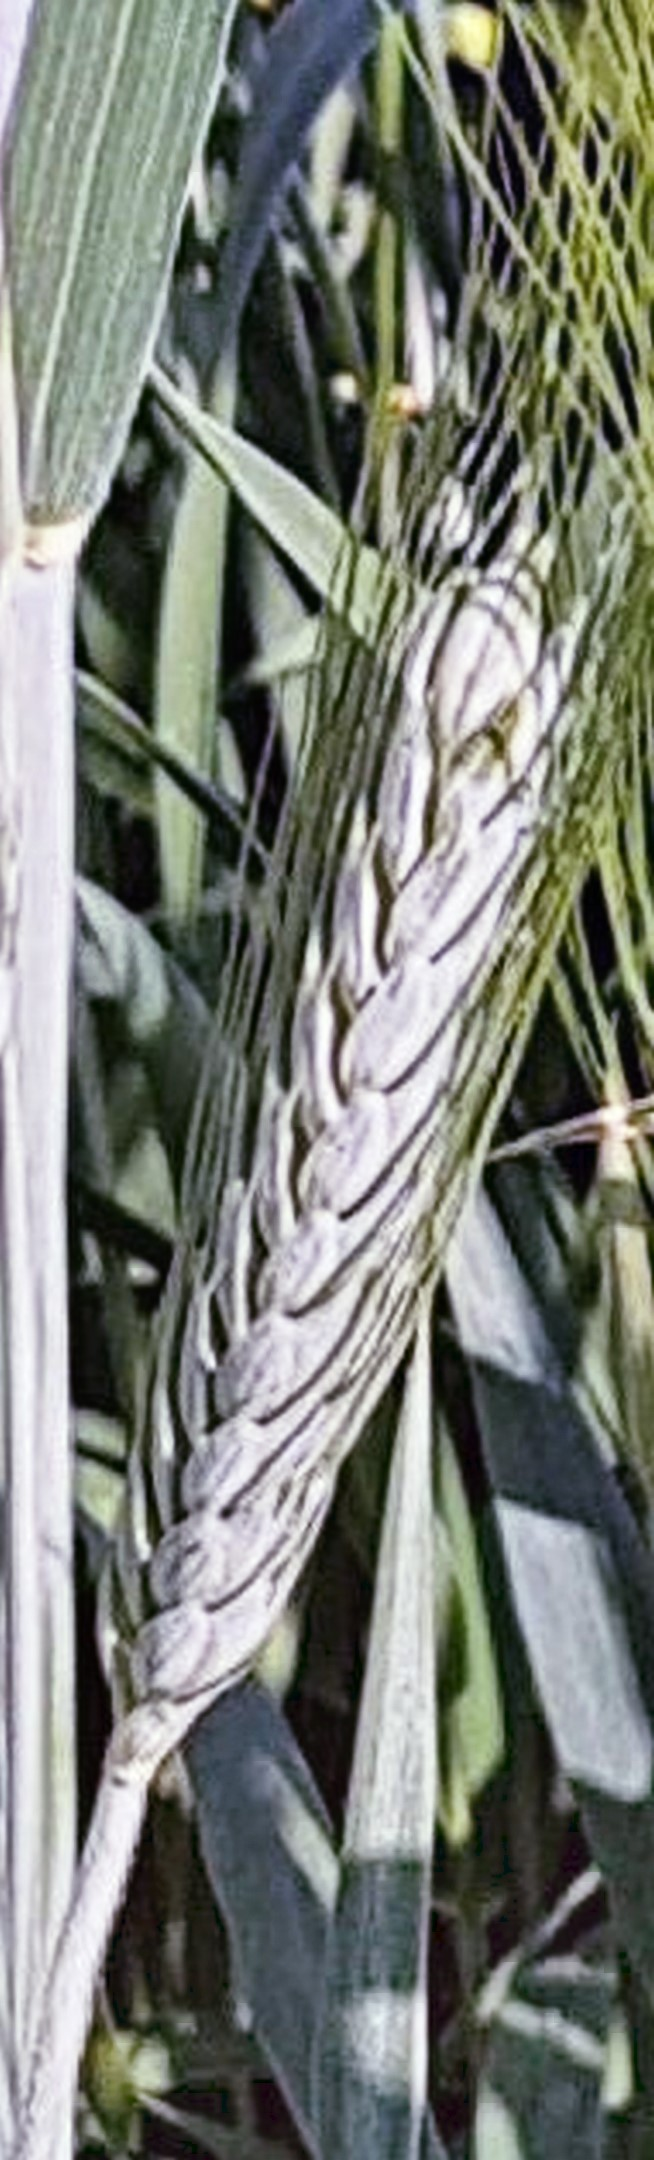Healthy Wheat: (91, 499, 626, 1756)
